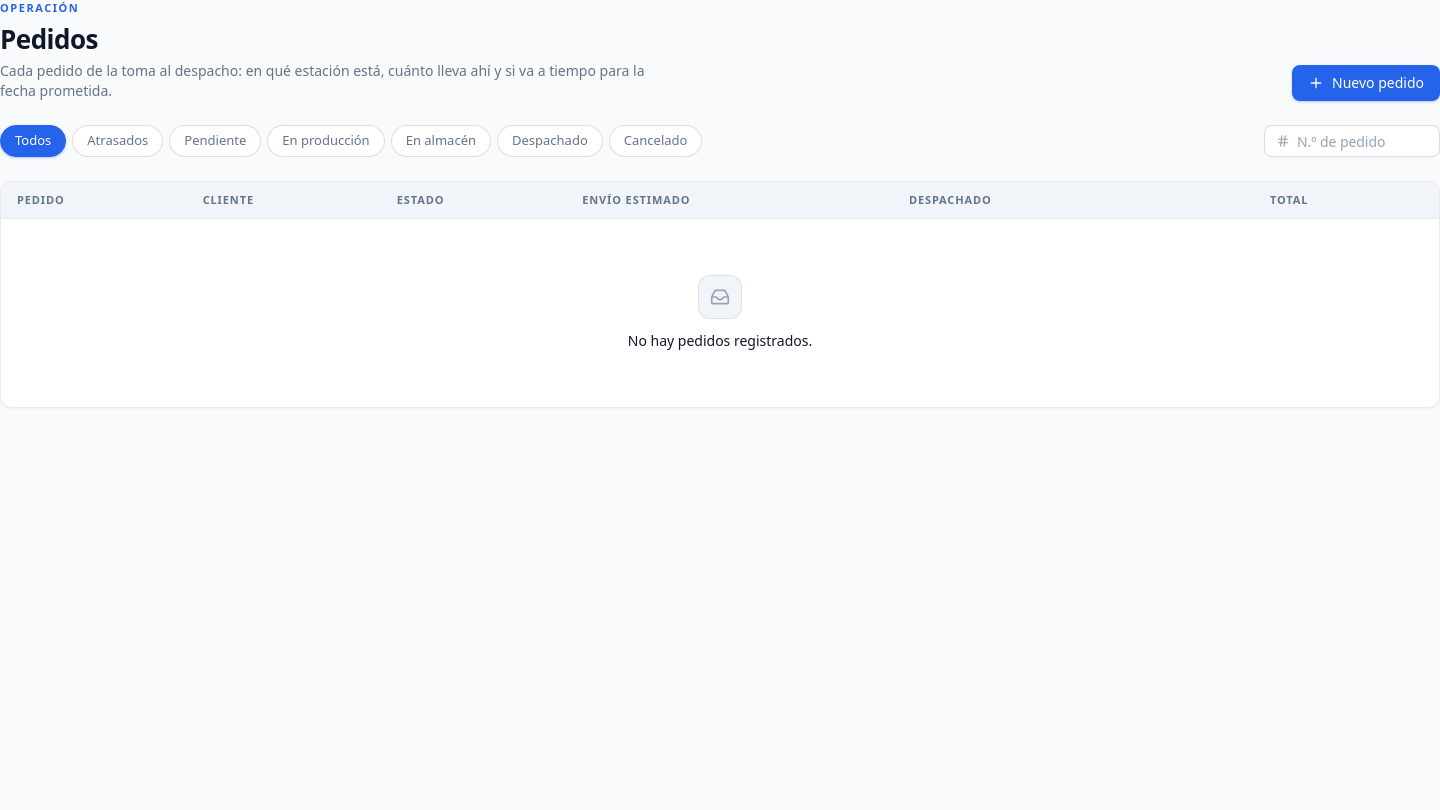
Scenario: OrdersPage › opens the creation modal when "Nuevo pedido" is clicked
This screenshot has width=1440, height=810.
Click the button "Nuevo pedido". click: (1366, 83)
box: [1292,65,1439,101]
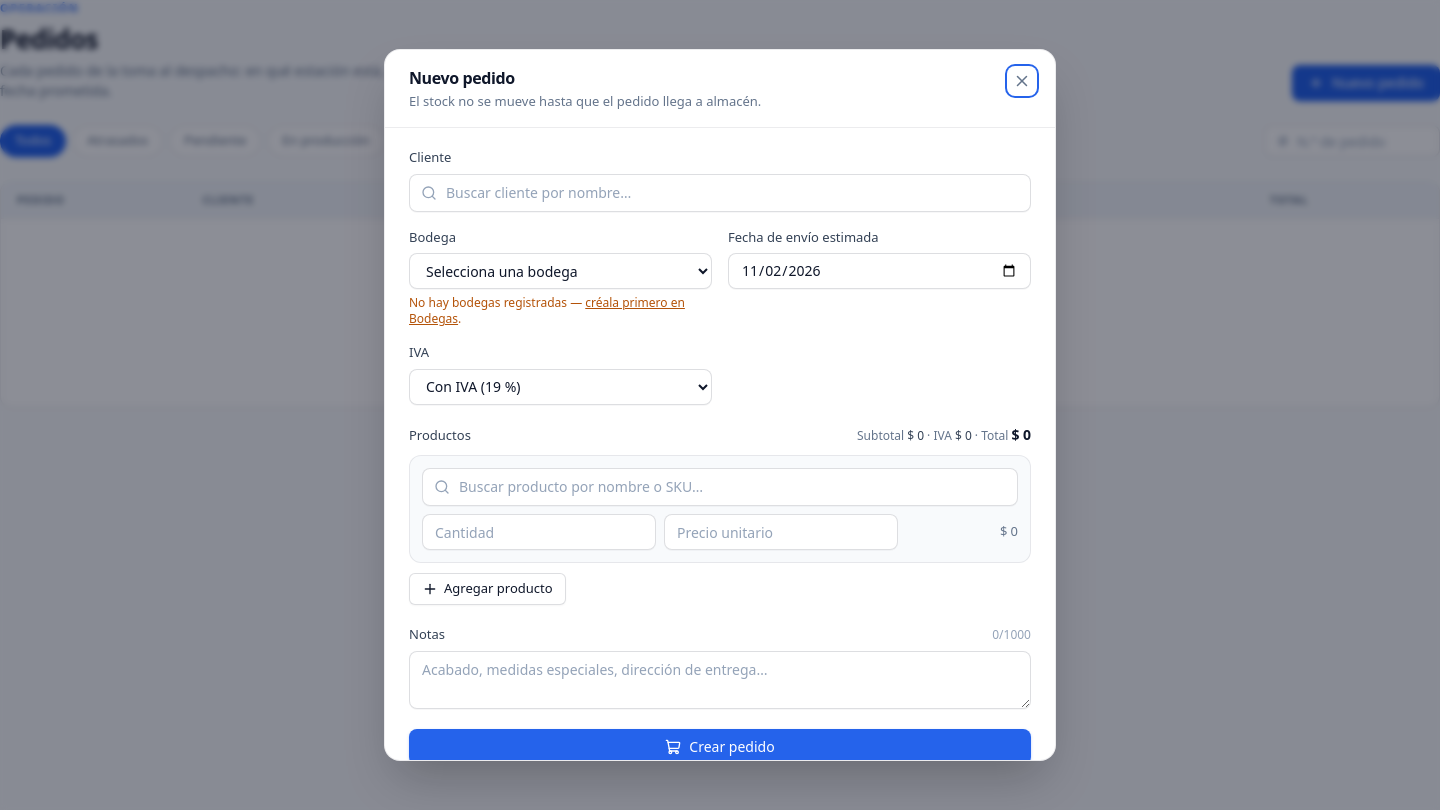
Expected: the dialog "Nuevo pedido" is shown, [384,49,1056,761]
Expected: the button "Crear pedido" is shown, [409,729,1031,760]
